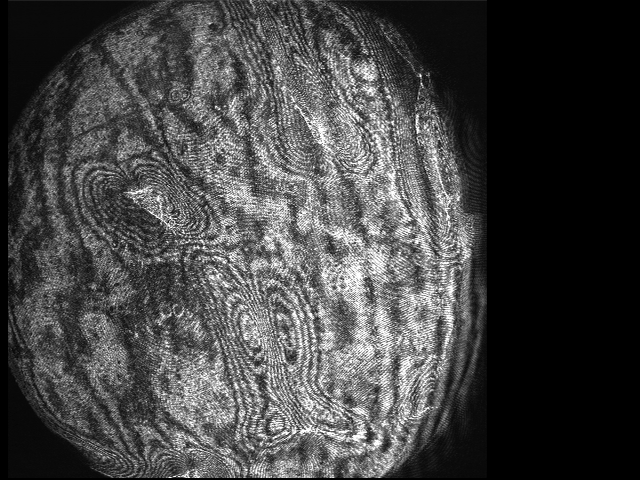plume: (76, 160, 222, 253)
